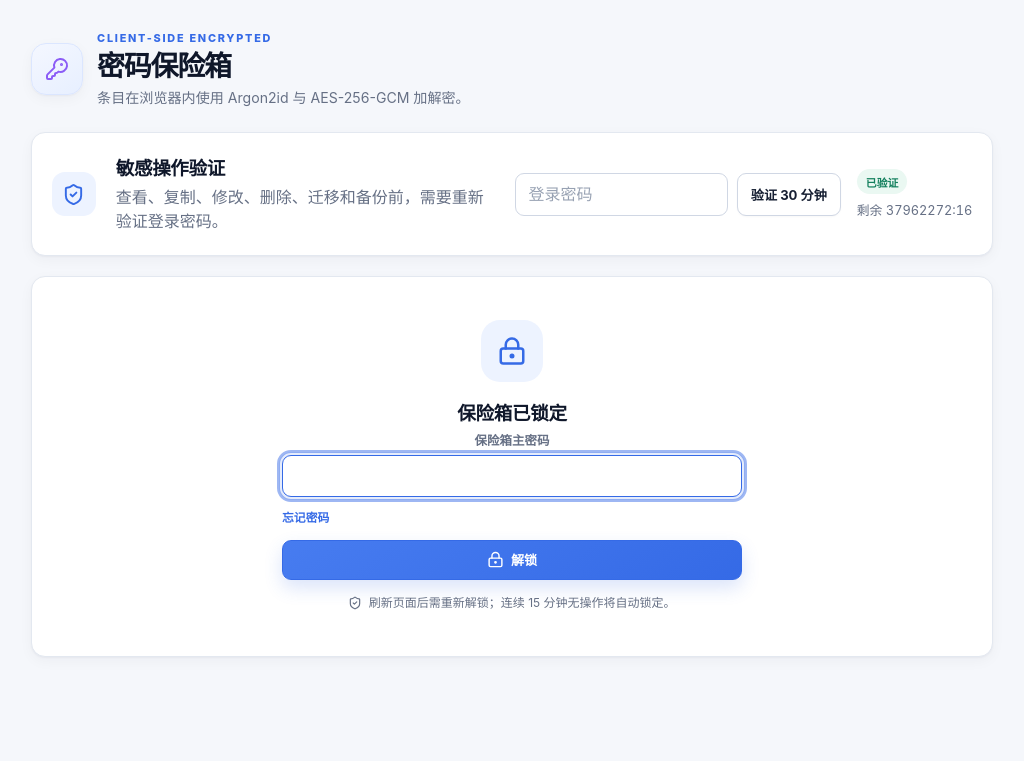
it: vault complete loading, pagination and favorites › groups the complete vault by category and filters before pagination
Type "long-master-password" into the password field labelled "保险箱主密码". click: (512, 476)
box: [282,455,742,497]
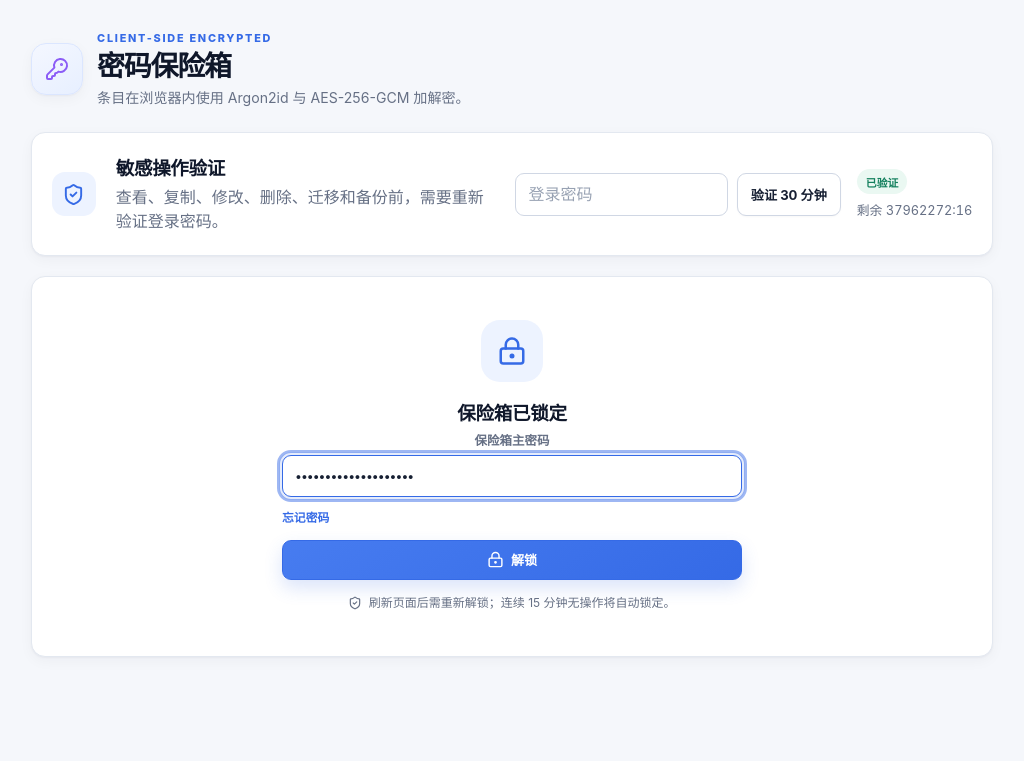
Submit the form labelled "保险箱主密码", box [282,431,742,580]
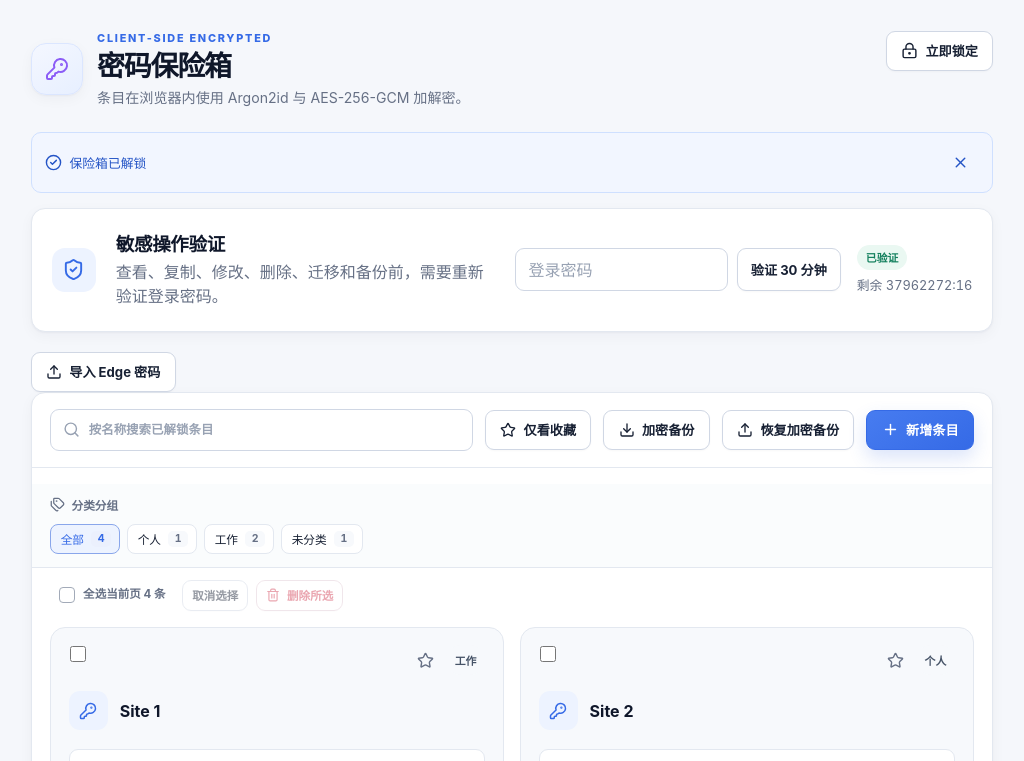
Expected: the text "保险箱已解锁" is shown, [45,153,146,172]
Expected: the button with aria-label "工作，2 条" is shown, [204,524,274,554]
Expected: the button with aria-label "个人，1 条" is shown, [127,524,197,554]
Click the checkbox named "选择 Site 1". click: (78, 654)
box: [70,646,86,662]
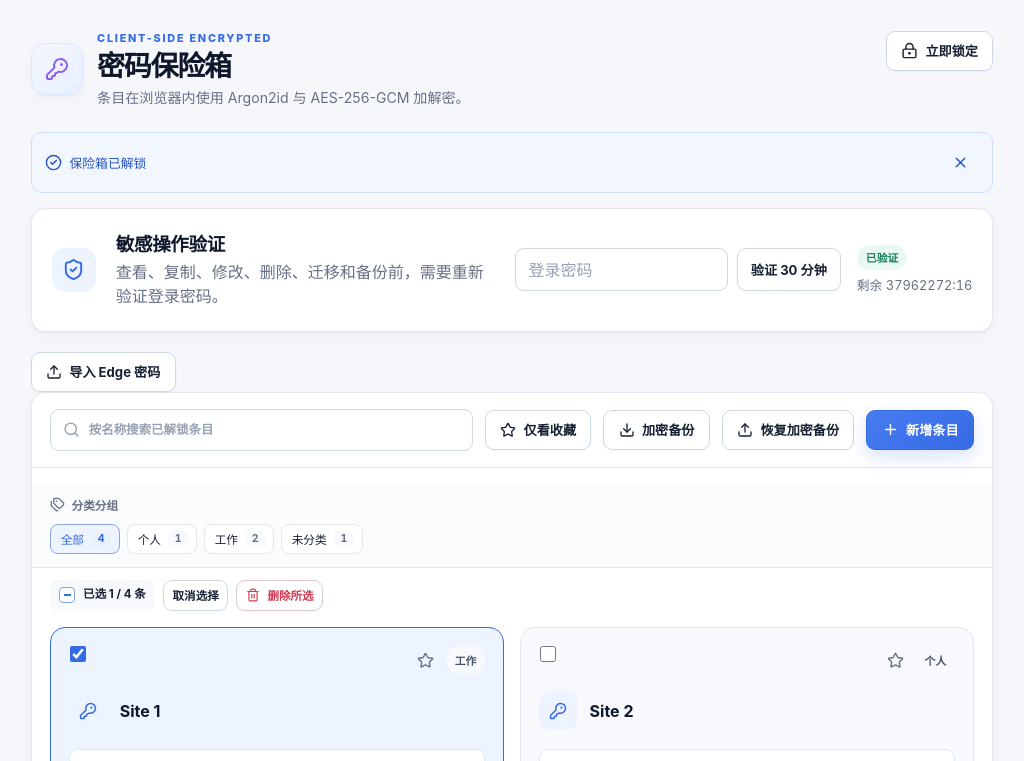
Click the button with aria-label "工作，2 条". click: (239, 539)
box: [204,524,274,554]
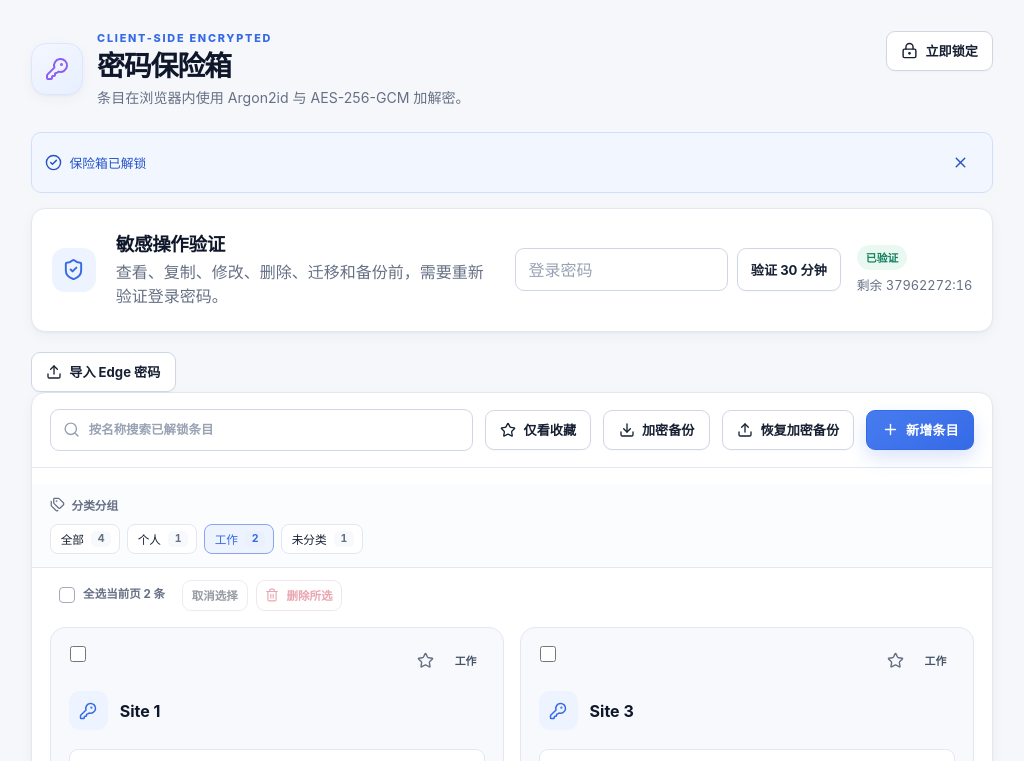
Expected: the heading "Site 1" is shown, [120,701,160,721]
Expected: the heading "Site 3" is shown, [590,701,634,721]
Expected: the heading "Site 2" is gone
Click the button with aria-label "未分类，1 条". click: (322, 539)
box: [281,524,363,554]
(page scrolled)
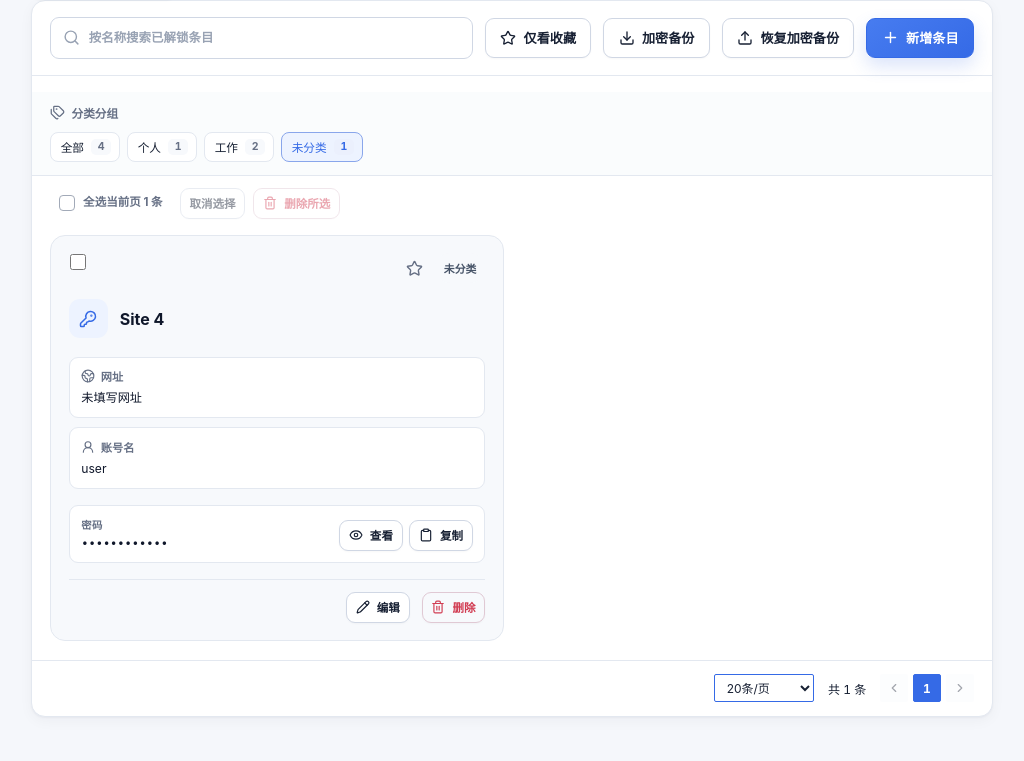
Expected: the heading "Site 4" is shown, [120,309,164,329]
Expected: the text "共 1 条" is shown, [828,680,866,697]
